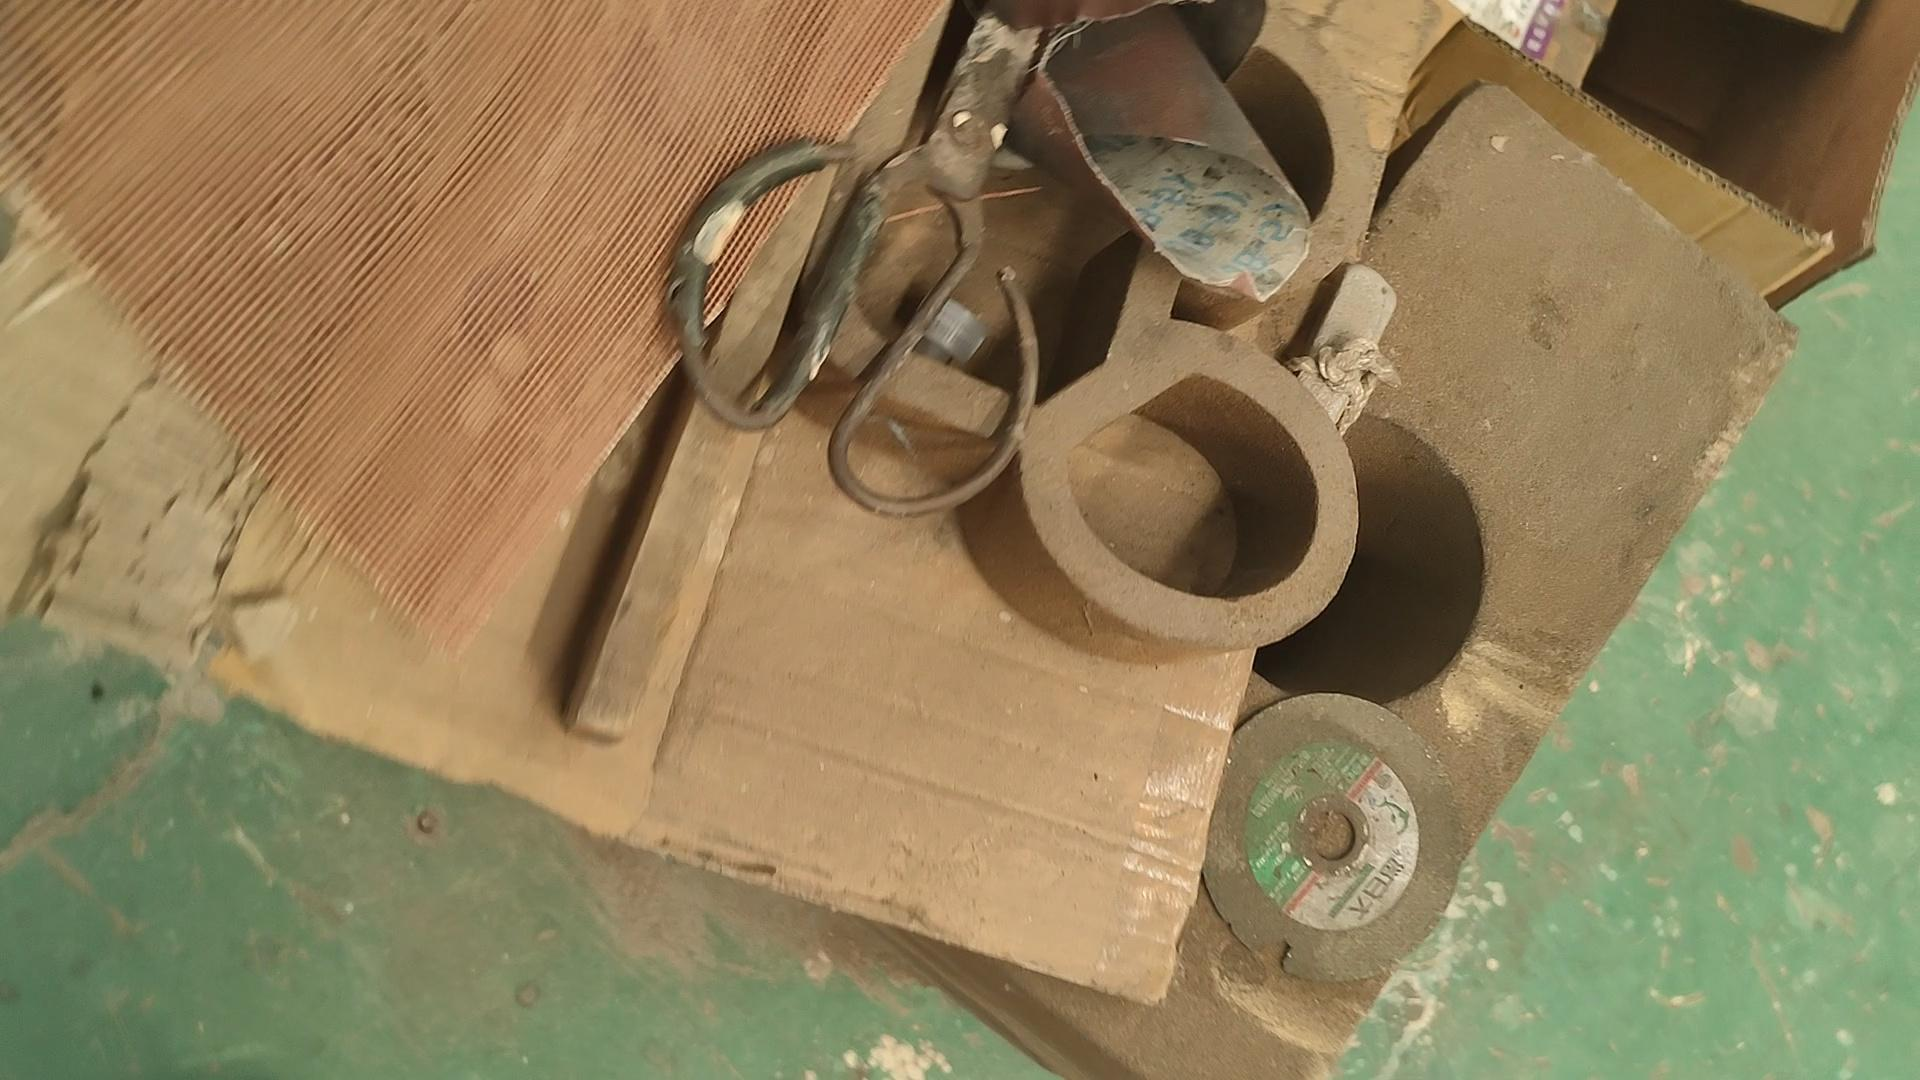pouring hole: (1187, 402, 1489, 705)
